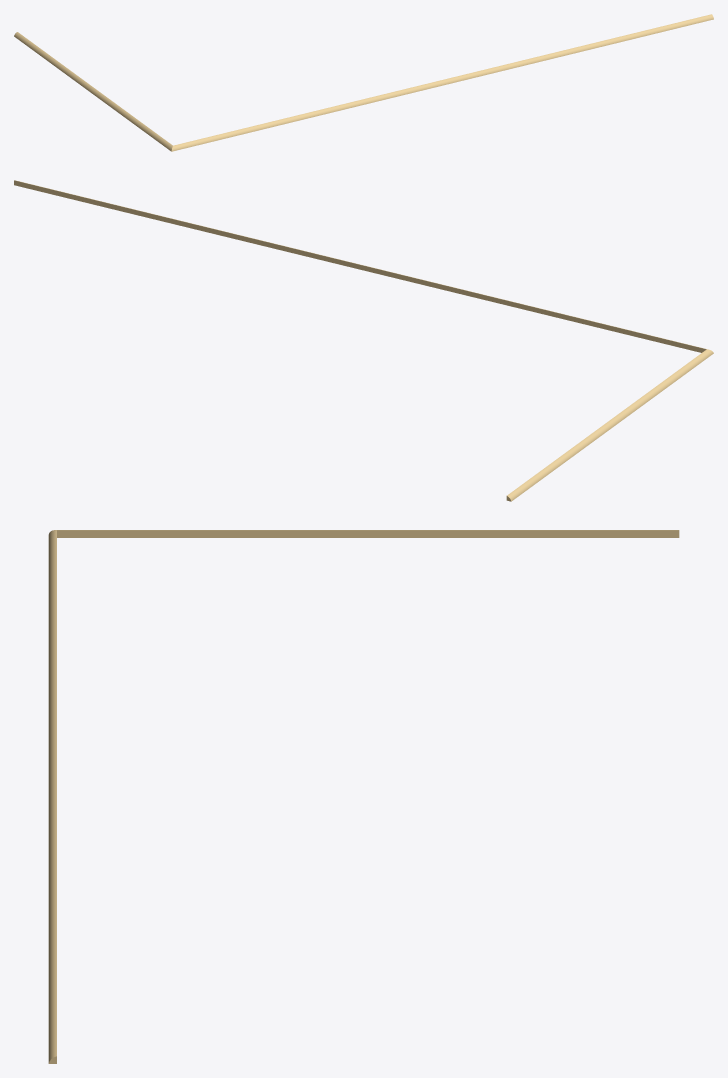
File: original-12.obj
3 renders of one model, top to bottom at view 1: azimuth 30°, elevation 25°; view 2: azimuth 150°, elevation 25°; view 3: azimuth 270°, elevation 25°, orthographic. The views are drawn at different scales.
Parts seen in each view (by area): view 1: mesh42/mesh42-geometry#mesh42-geometry; view 2: mesh42/mesh42-geometry#mesh42-geometry; view 3: mesh42/mesh42-geometry#mesh42-geometry.
Part boxes in pixels (x1,y1,x2,y2): mesh42/mesh42-geometry#mesh42-geometry: (14,14,713,151); mesh42/mesh42-geometry#mesh42-geometry: (14,180,713,501); mesh42/mesh42-geometry#mesh42-geometry: (48,530,679,1063).
Bounding box in the file's own units: 1.35 × 0.00895 × 0.6803.
